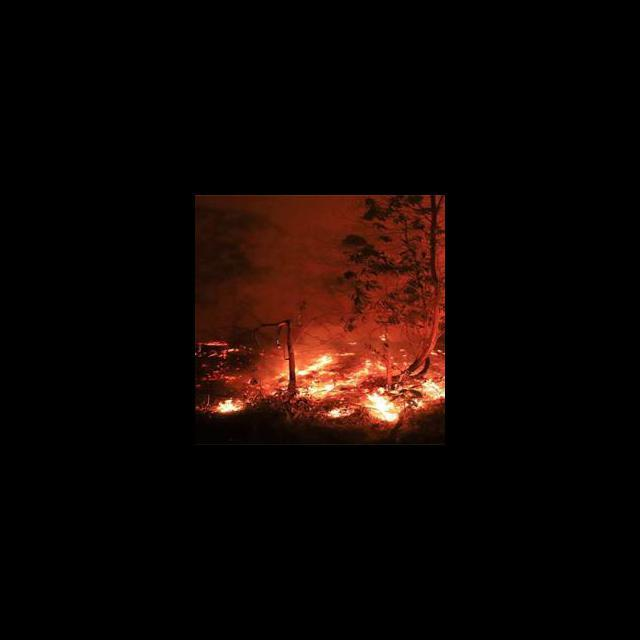Fire: (197, 320, 444, 427)
